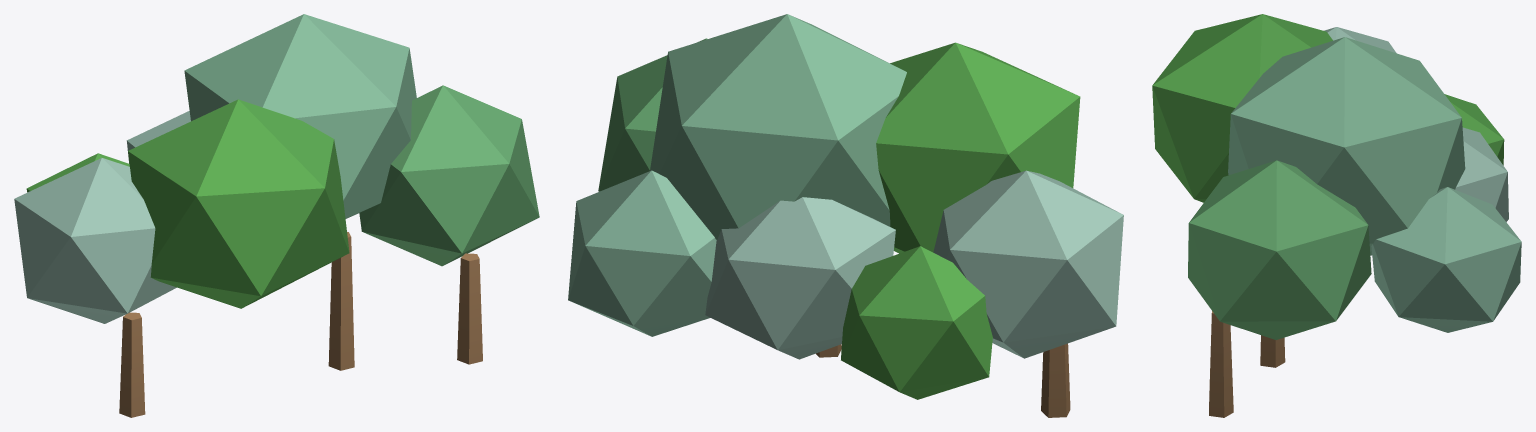
The model's file is forest-clump.glb.
3 renders of one model, left to right at view 1: azimuth 30°, elevation 25°; view 2: azimuth 150°, elevation 25°; view 3: azimuth 270°, elevation 25°, orthographic. The views are drawn at different scales.
Parts seen in each view (by area): view 1: root_mesh; view 2: root_mesh; view 3: root_mesh.
Part boxes in pixels (<box>): root_mesh: <box>14,14,539,417</box>; root_mesh: <box>568,14,1123,417</box>; root_mesh: <box>1152,14,1521,417</box>.
Bounding box in the file's own units: 8.64 × 5.74 × 5.92.
